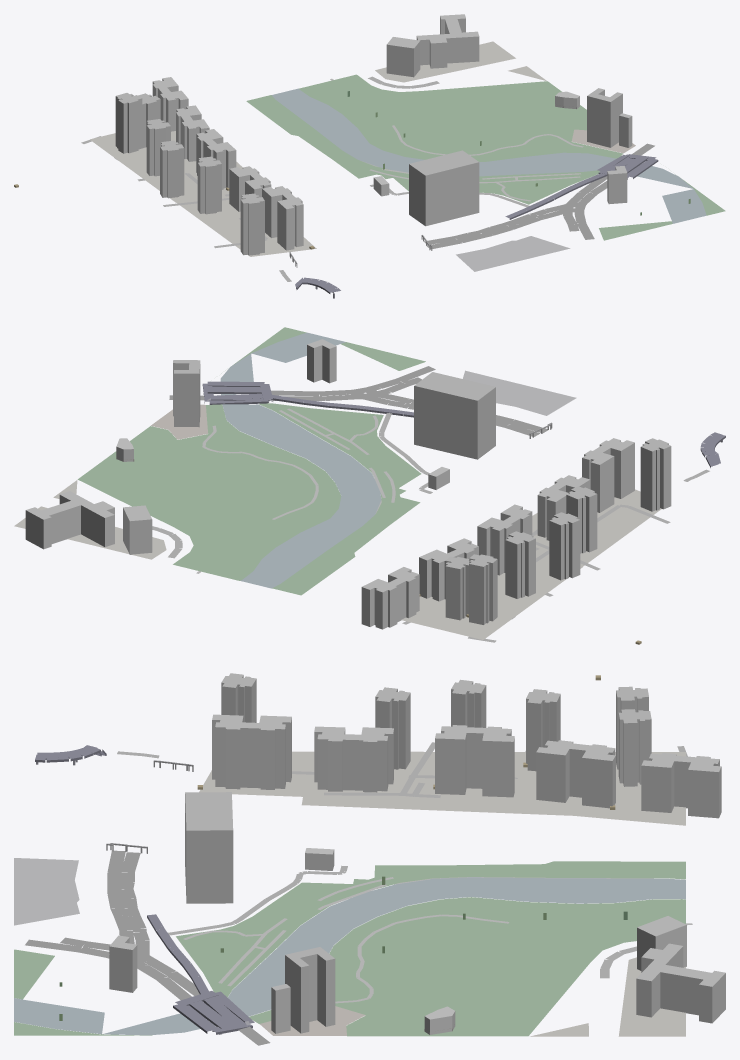
3 renders of one model, top to bottom at view 1: azimuth 30°, elevation 25°; view 2: azimuth 150°, elevation 25°; view 3: azimuth 270°, elevation 25°, orthographic. The views are drawn at different scales.
Size of the model in its own units: 648 by 63.92 by 530.
